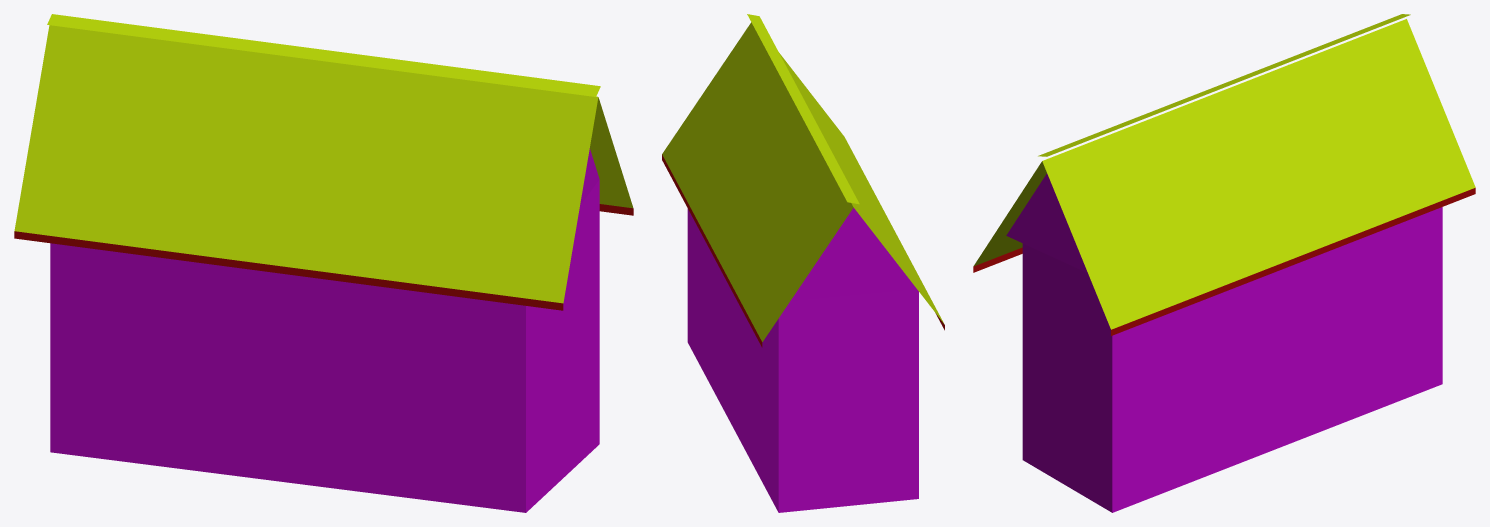
Rendered from ces_42.glb.
The picture shows the model from 3 angles, left to right: view 1: azimuth 30°, elevation 25°; view 2: azimuth 150°, elevation 25°; view 3: azimuth 270°, elevation 25°; orthographic projection. The views are drawn at different scales.
Visible parts, largest first — view 1: ces_42; view 2: ces_42; view 3: ces_42.
Part boxes in pixels (x1,y1,x2,y2): ces_42: [14, 14, 633, 512]; ces_42: [662, 14, 944, 512]; ces_42: [973, 14, 1475, 512].
Bounding box in the file's own units: 8.33 × 6.44 × 8.61.
